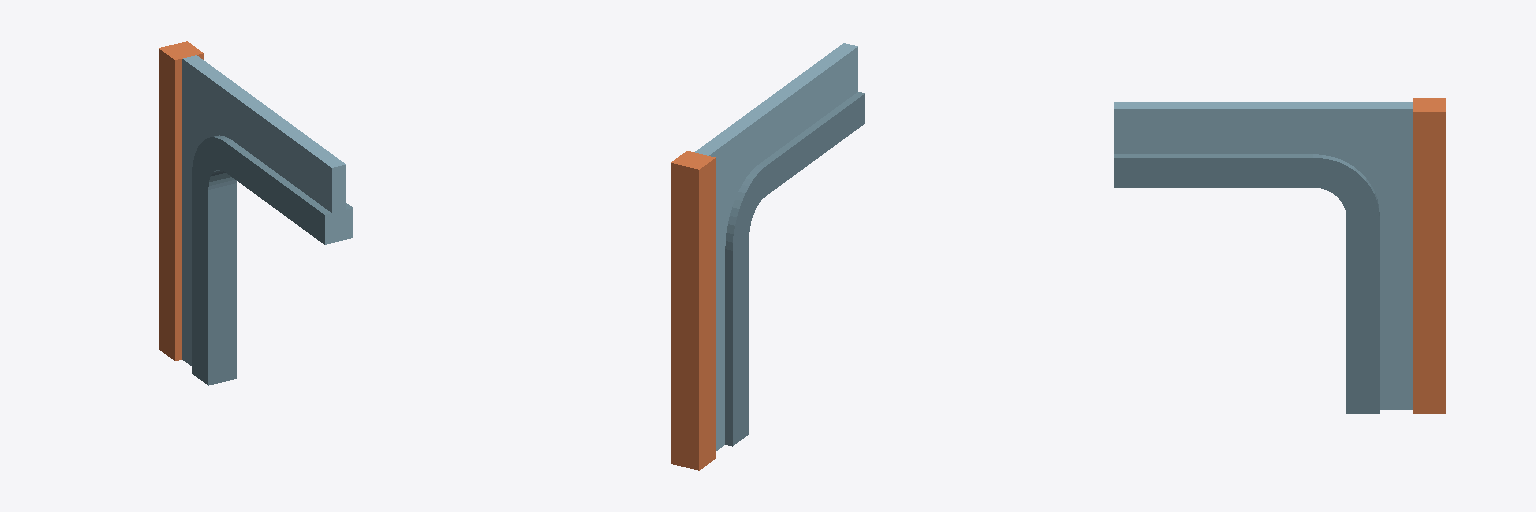
The model's file is wallDoorwaySquareWideCurved.obj.
3 views of the same model, side by side, from view 1: azimuth 30°, elevation 25°; view 2: azimuth 150°, elevation 25°; view 3: azimuth 270°, elevation 25° (orthographic).
Parts seen in each view (by area): view 1: wallDoorwaySquareWideCurved; view 2: wallDoorwaySquareWideCurved; view 3: wallDoorwaySquareWideCurved.
Part boxes in pixels (x1,y1,x2,y2): wallDoorwaySquareWideCurved: (159, 41, 352, 385); wallDoorwaySquareWideCurved: (671, 43, 864, 470); wallDoorwaySquareWideCurved: (1114, 98, 1445, 413).
Size of the model in its own units: 0.1 by 1 by 1.